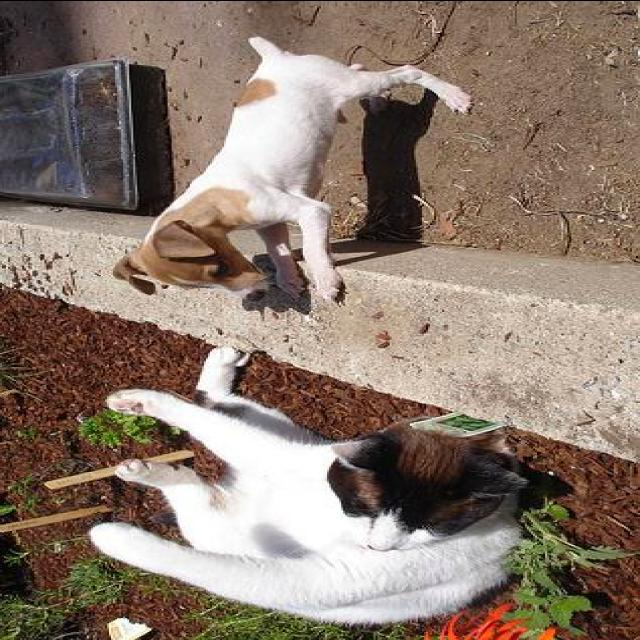toy_terrier: (110, 36, 470, 301)
